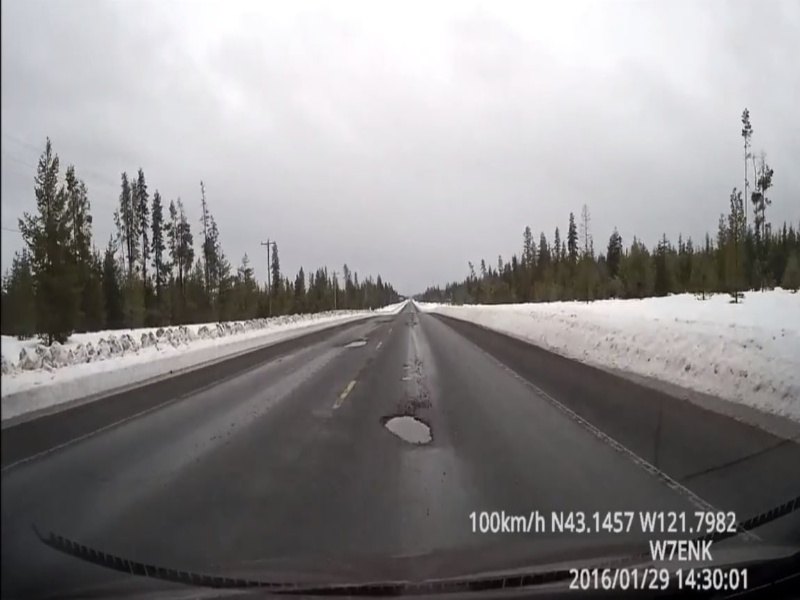pothole: (381, 410, 435, 447), (343, 335, 370, 350), (399, 360, 409, 371), (399, 373, 412, 381)
